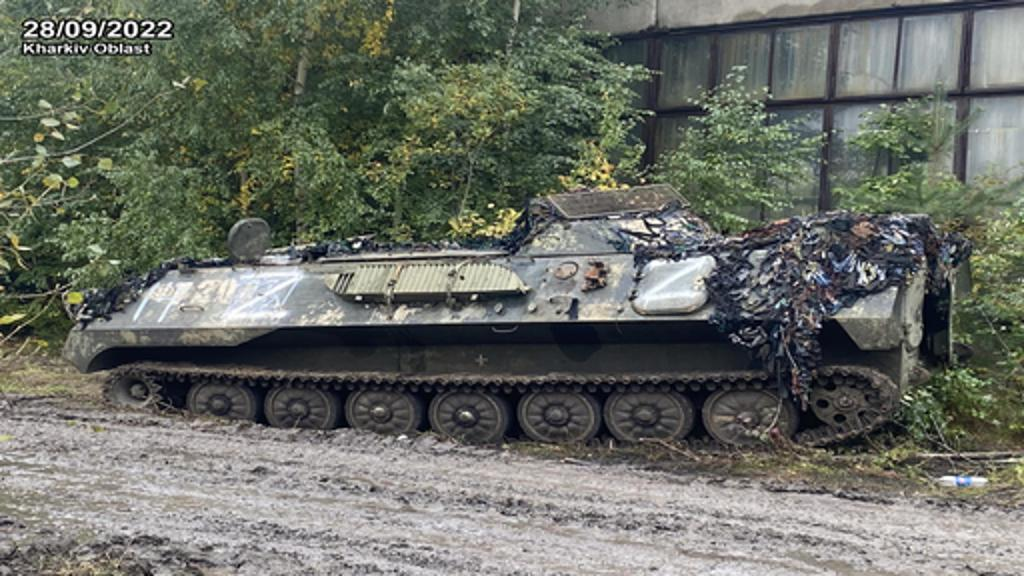APC-IFV: (66, 182, 956, 478)
